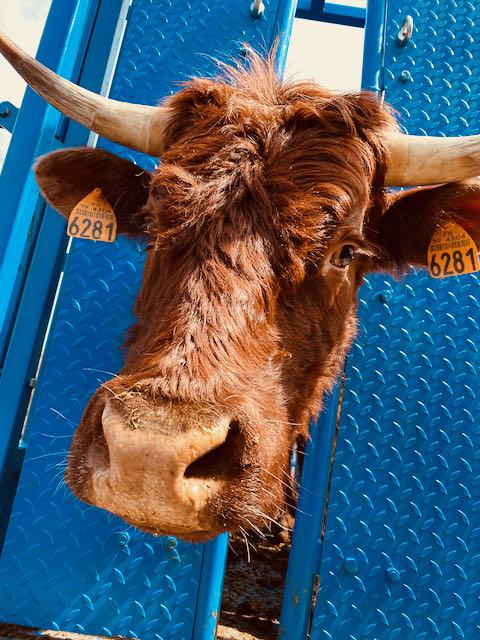muzzles: (52, 367, 288, 552)
